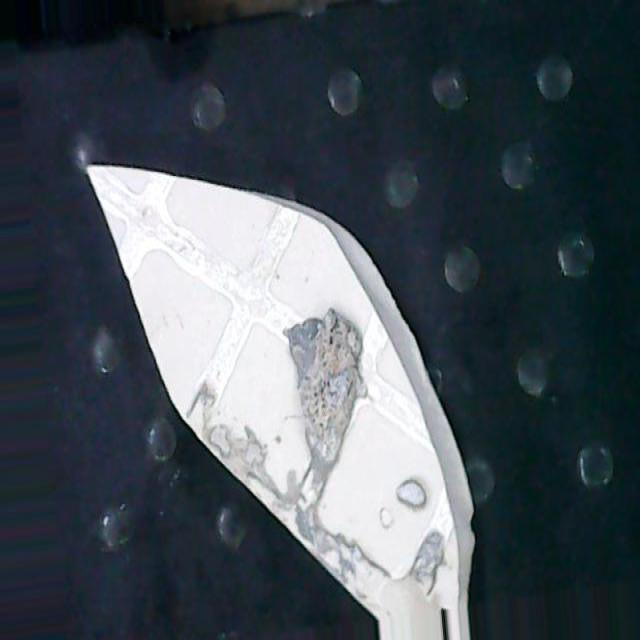-Other waste - ceramic-: (88, 150, 467, 629)
